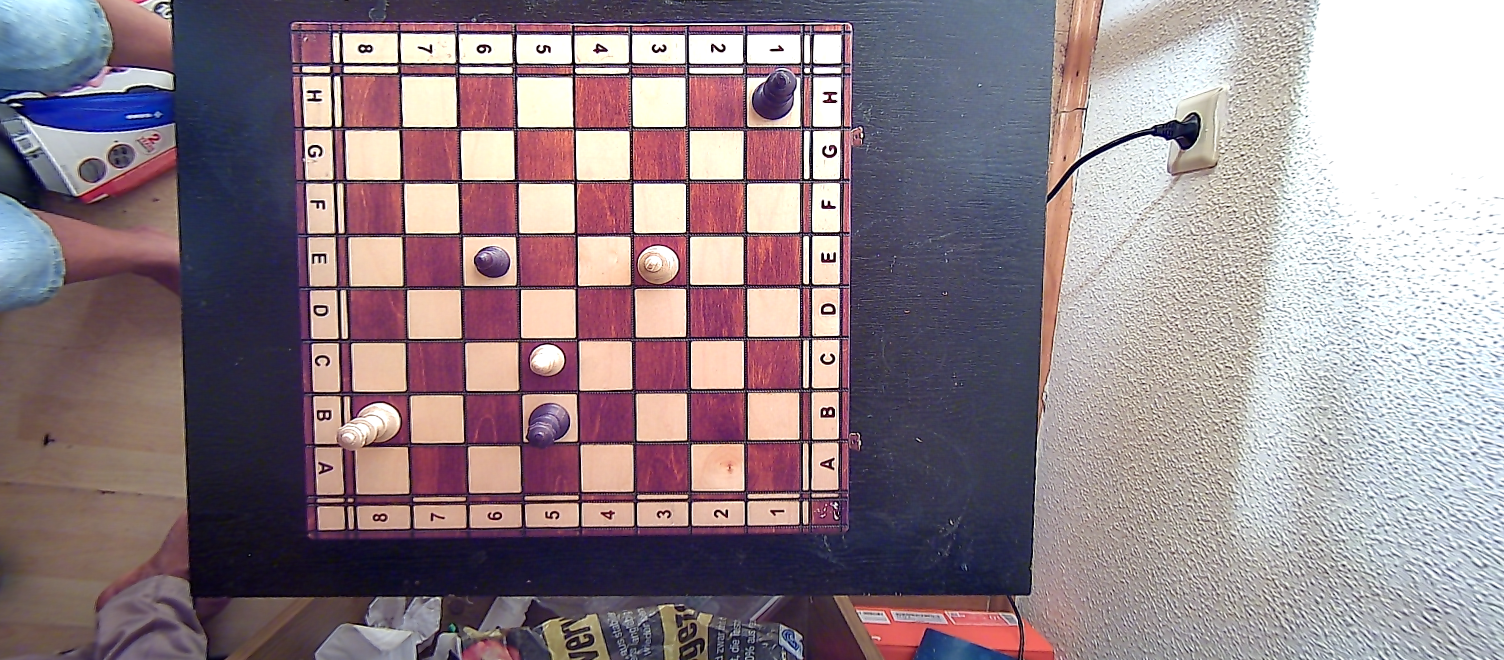black-bishop: (471, 243, 514, 282)
black-king: (750, 66, 800, 121)
black-queen: (524, 399, 572, 452)
white-bishop: (525, 338, 568, 378)
white-king: (637, 243, 683, 291)
white-queen: (333, 399, 404, 452)
